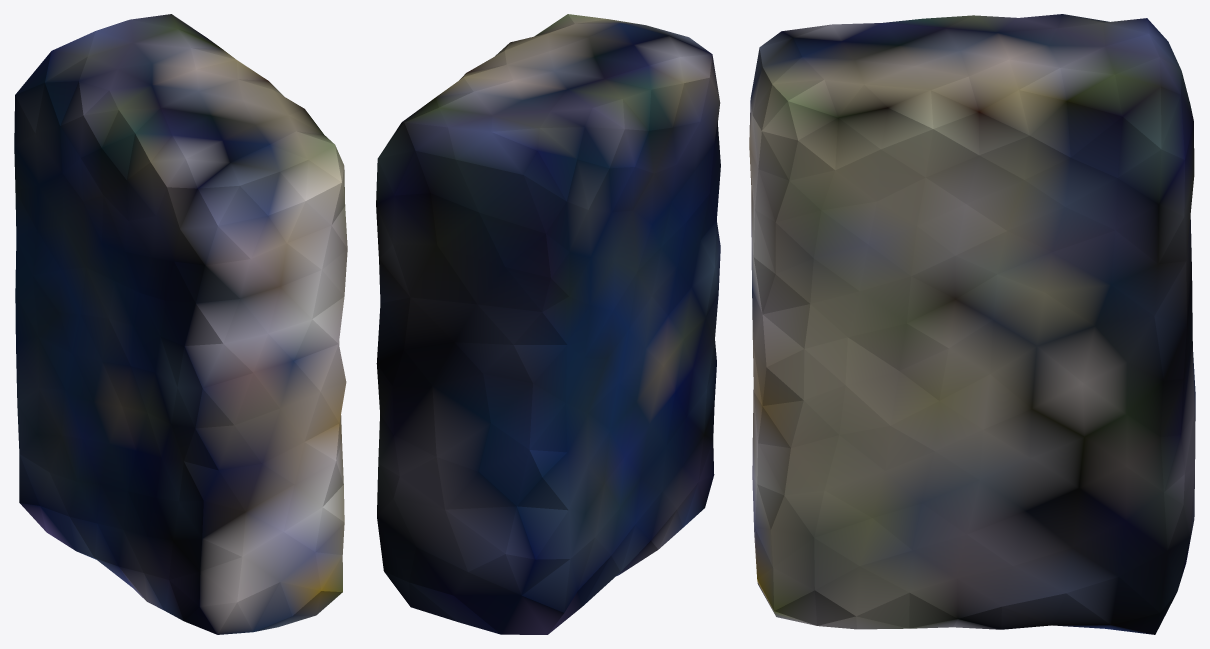
Rendered from dhl-box-blue.dae.
3 renders of one model, left to right at view 1: azimuth 30°, elevation 25°; view 2: azimuth 150°, elevation 25°; view 3: azimuth 270°, elevation 25°, orthographic. The views are drawn at different scales.
Visible parts, largest first — view 1: node; view 2: node; view 3: node.
Boxes of the visible parts, <box> form: node: <box>14,14,347,634</box>; node: <box>376,14,720,634</box>; node: <box>749,14,1195,634</box>.
Size of the model in its own units: 0.1561 by 0.3875 by 0.2778.
